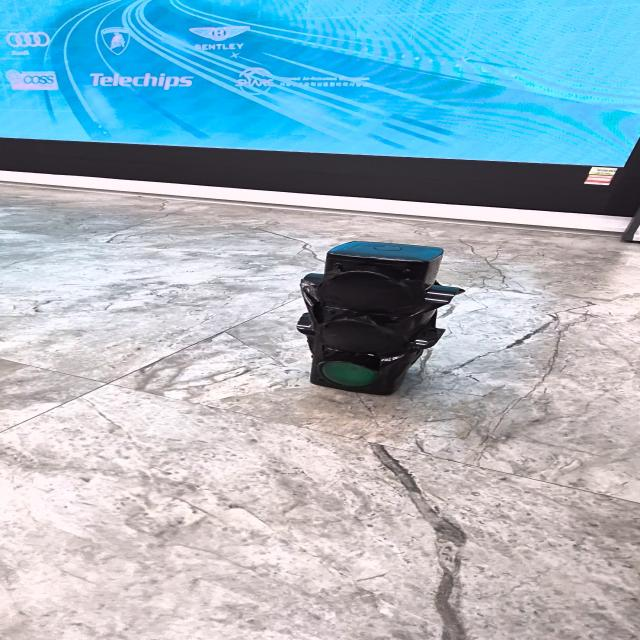green_light: (276, 210, 462, 424)
